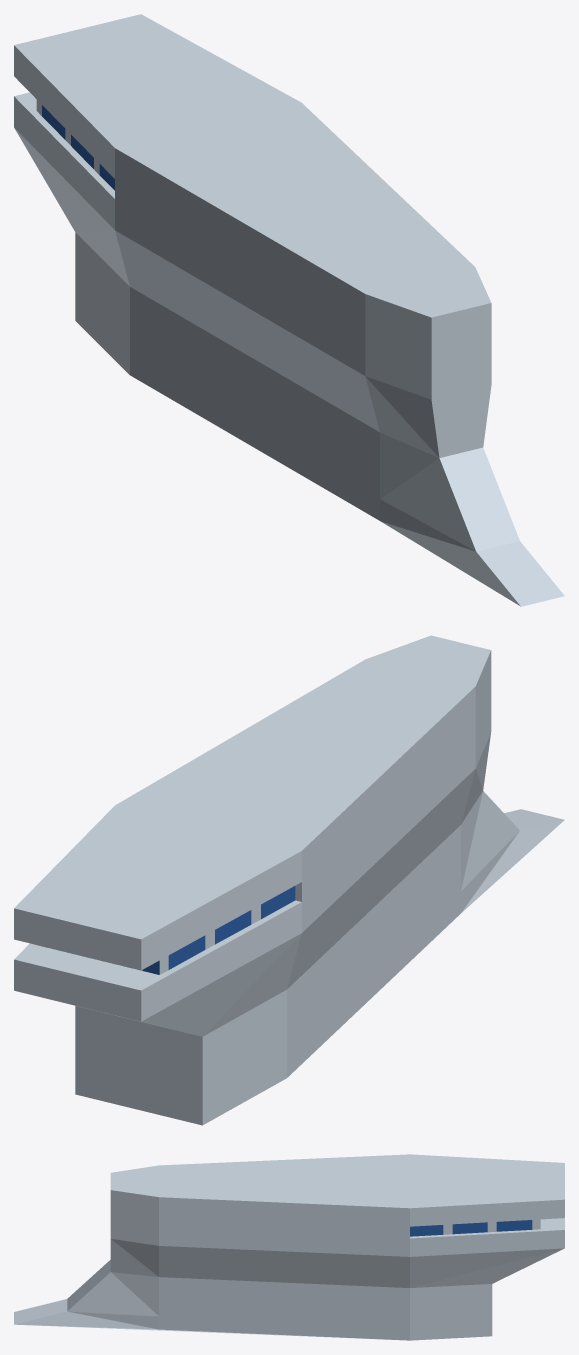
Rendered from head.FBX.
3 views of the same model, one above another, from view 1: azimuth 30°, elevation 25°; view 2: azimuth 150°, elevation 25°; view 3: azimuth 270°, elevation 25° (orthographic). The views are drawn at different scales.
Visible parts, largest first — view 1: VIFS001, VIFS002; view 2: VIFS001, VIFS002; view 3: VIFS001, VIFS002.
Part boxes in pixels (x1,y1,x2,y2): VIFS001: (14, 14, 564, 606); VIFS002: (42, 105, 114, 190); VIFS001: (14, 635, 564, 1125); VIFS002: (142, 886, 295, 974); VIFS001: (14, 1154, 564, 1340); VIFS002: (410, 1220, 532, 1236).
Size of the model in its own units: 0.2109 by 0.2499 by 0.911.
